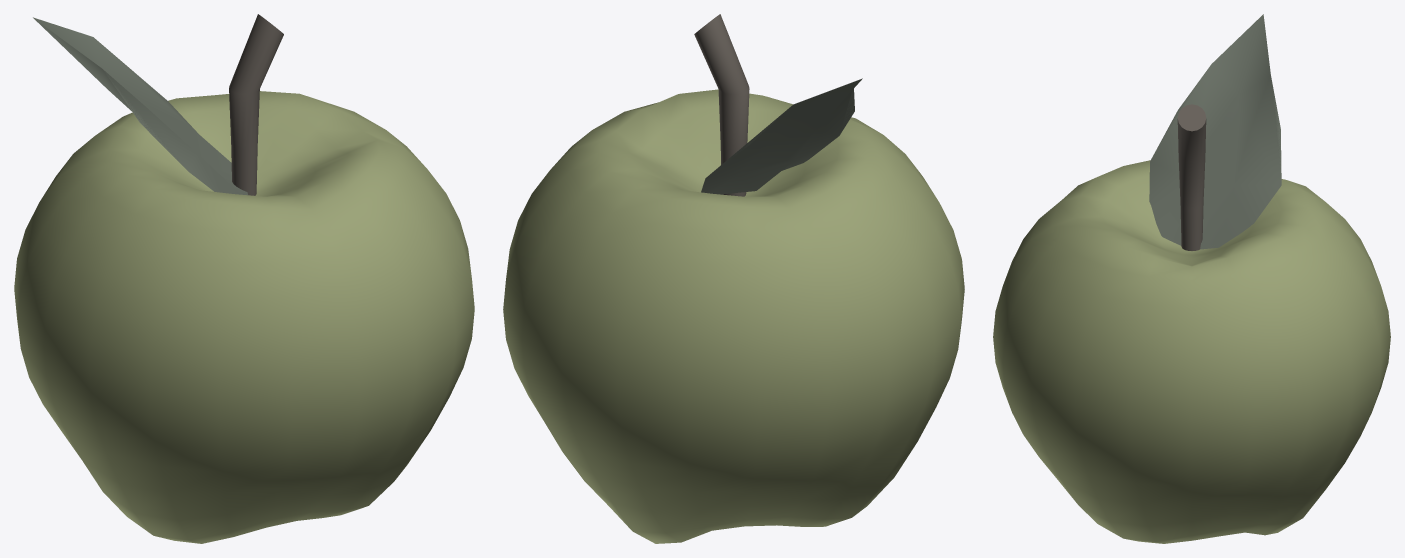
The model's file is unripeApple.fbx.
3 views of the same model, side by side, from view 1: azimuth 30°, elevation 25°; view 2: azimuth 150°, elevation 25°; view 3: azimuth 270°, elevation 25° (orthographic). The views are drawn at different scales.
Parts seen in each view (by area): view 1: unripeApple; view 2: unripeApple; view 3: unripeApple.
Part boxes in pixels (x1,y1,x2,y2): unripeApple: (14,14,474,543); unripeApple: (503,14,964,543); unripeApple: (993,14,1390,543).
Size of the model in its own units: 7.77 by 9.39 by 7.77.
